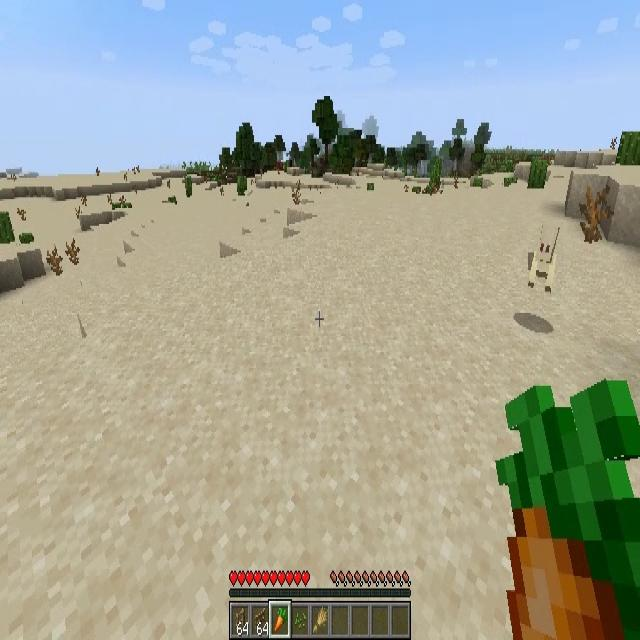rabbit: (530, 225, 557, 293)
